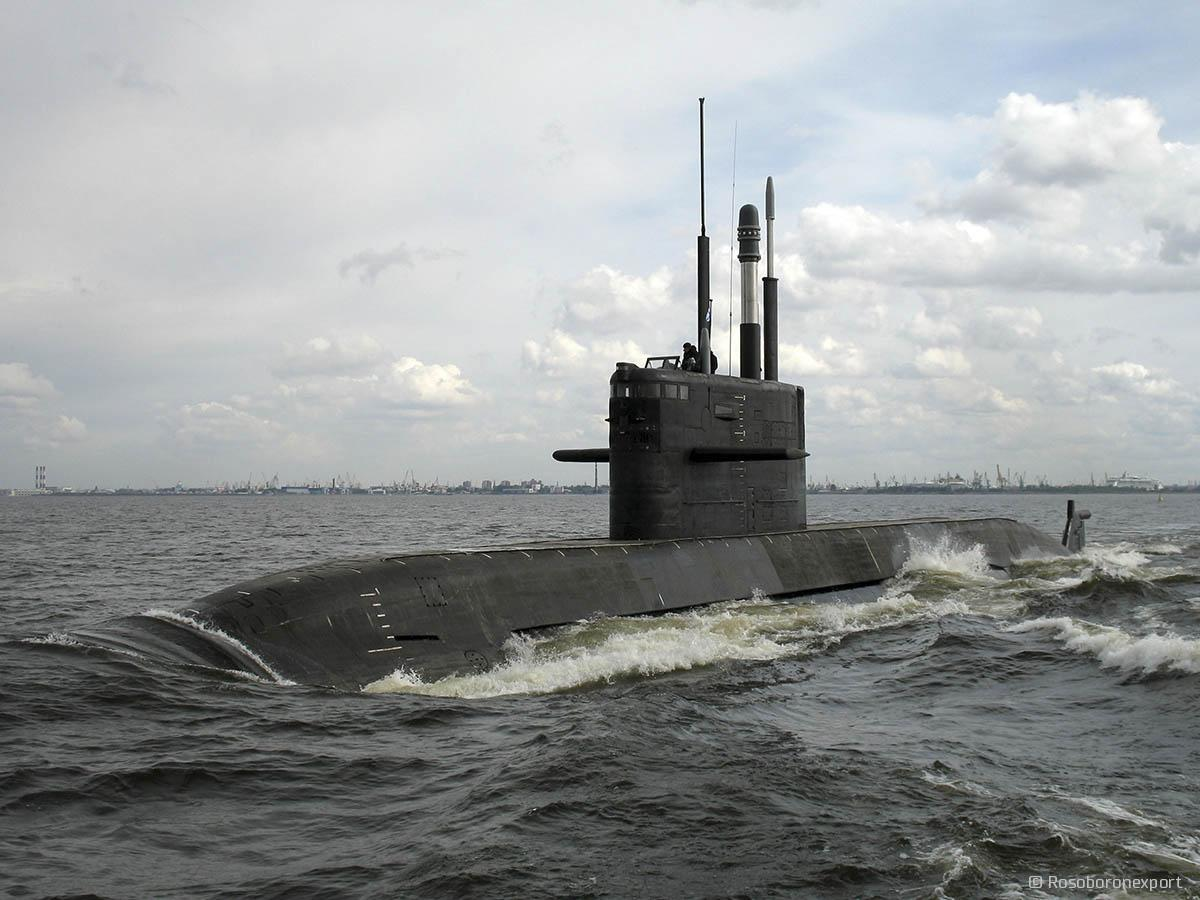Submarine: (75, 68, 1170, 778)
